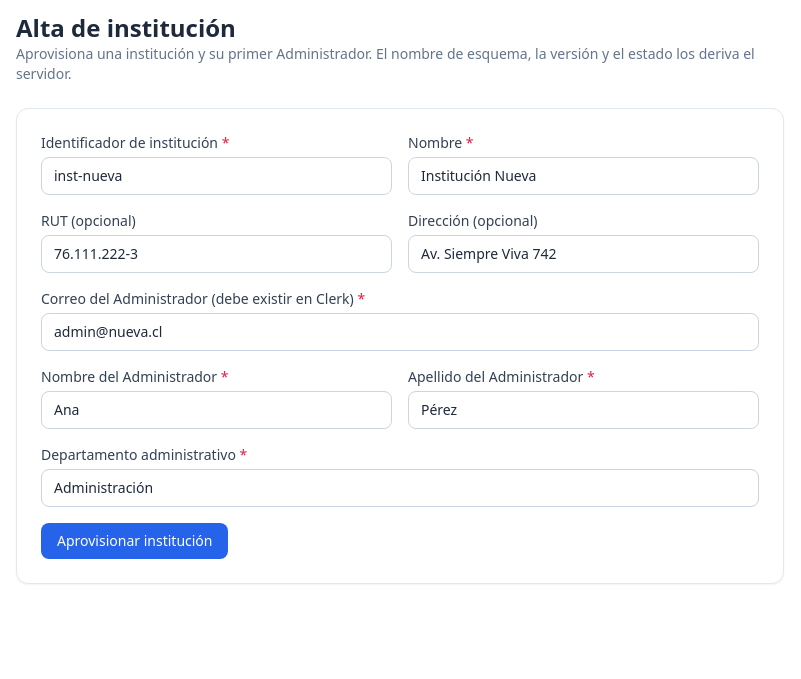
it: AltaInstitucionComponent › AC-8: un 503 por frontera Clerk caída muestra el error real
Click the submit button.
click(135, 541)  # box [41, 523, 228, 559]
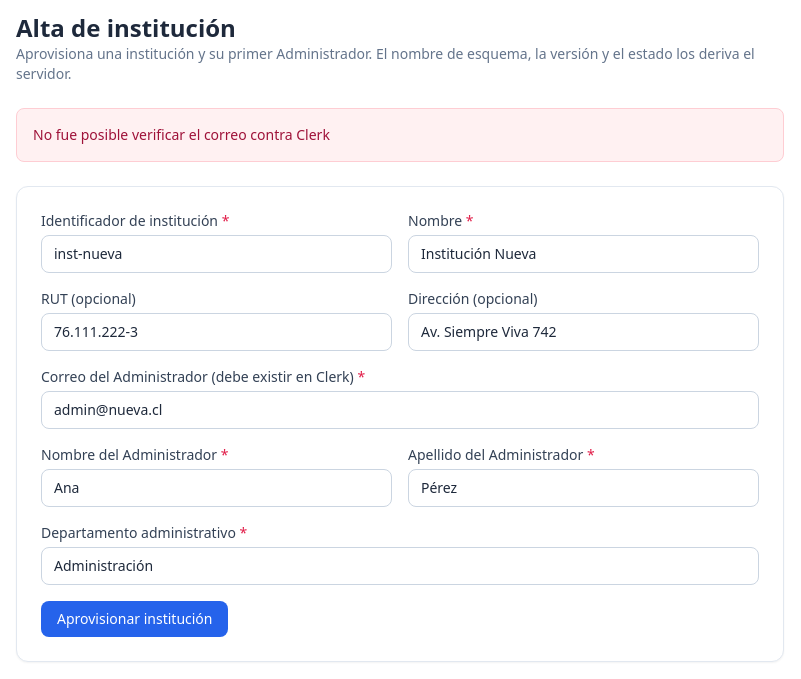
Check: the message "No fue posible verificar el correo contra Clerk" is shown, box [16, 108, 784, 162]
